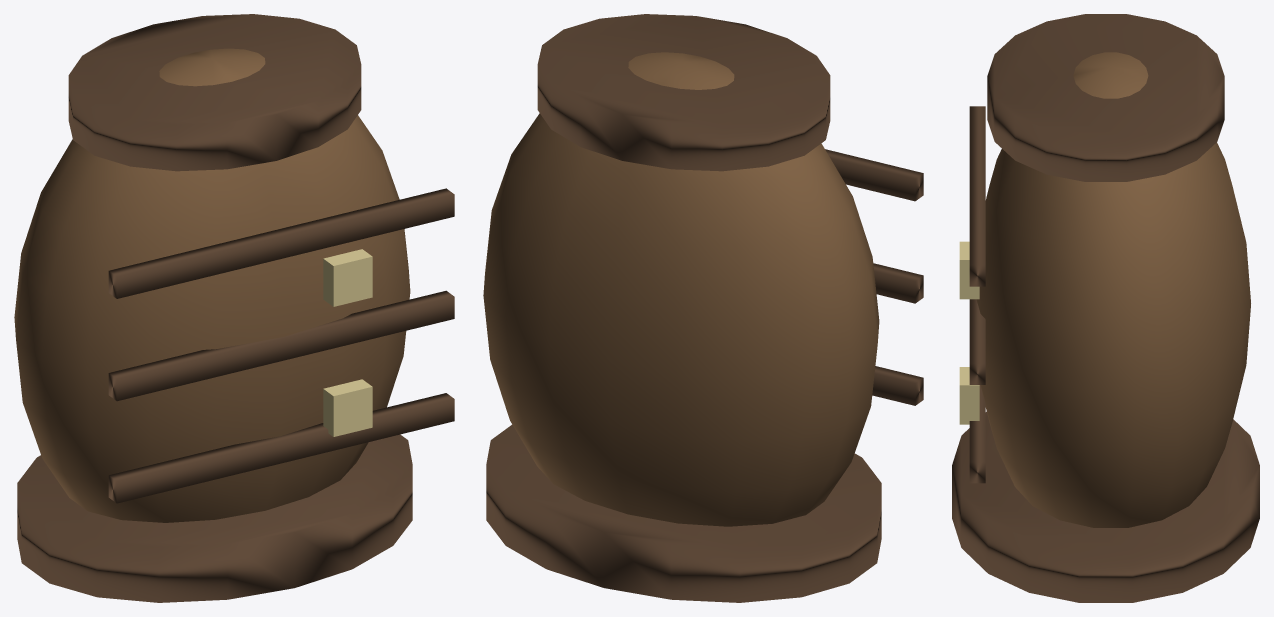
File: peitoral_de_couro.glb
The picture shows the model from 3 angles, left to right: view 1: azimuth 30°, elevation 25°; view 2: azimuth 150°, elevation 25°; view 3: azimuth 270°, elevation 25°; orthographic projection. The views are drawn at different scales.
Visible parts, largest first — view 1: Cube; view 2: Cube; view 3: Cube.
Part boxes in pixels (x1,y1,x2,y2): Cube: [14, 14, 454, 602]; Cube: [483, 14, 923, 602]; Cube: [952, 14, 1259, 602].
Bounding box in the file's own units: 0.4136 × 0.53 × 0.3116.
